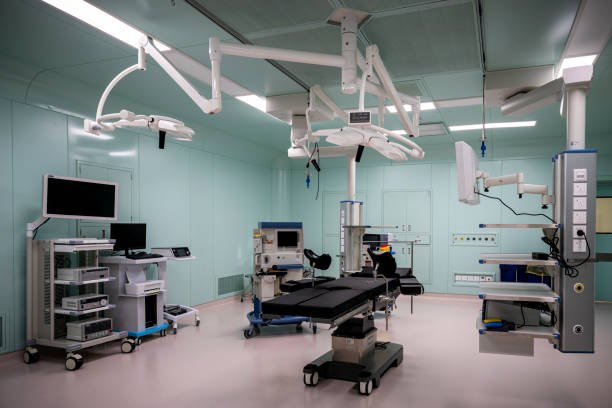bedside_monitor: (42, 173, 118, 221), (453, 140, 486, 204), (267, 231, 302, 251)
computer: (110, 223, 146, 256)
handle: (407, 248, 411, 256), (401, 247, 405, 255), (407, 224, 411, 232), (401, 224, 405, 232)
keyboard: (128, 253, 164, 259)
operating_bed: (261, 276, 403, 396)
surgical_light: (84, 115, 195, 149), (325, 126, 408, 161)
ventilator: (247, 218, 311, 323)
